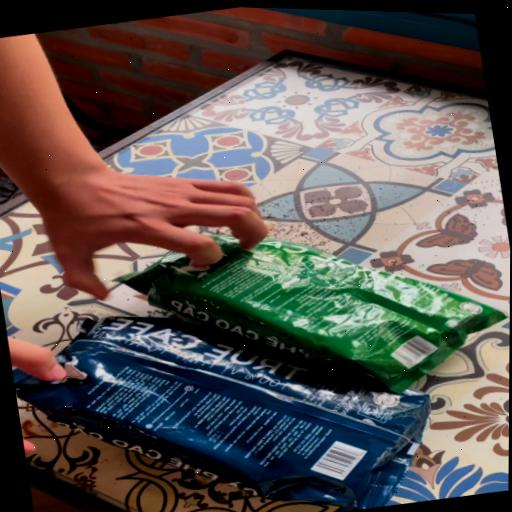cafe_hat: (12, 316, 430, 509)
cafe_xay: (116, 235, 506, 392)
